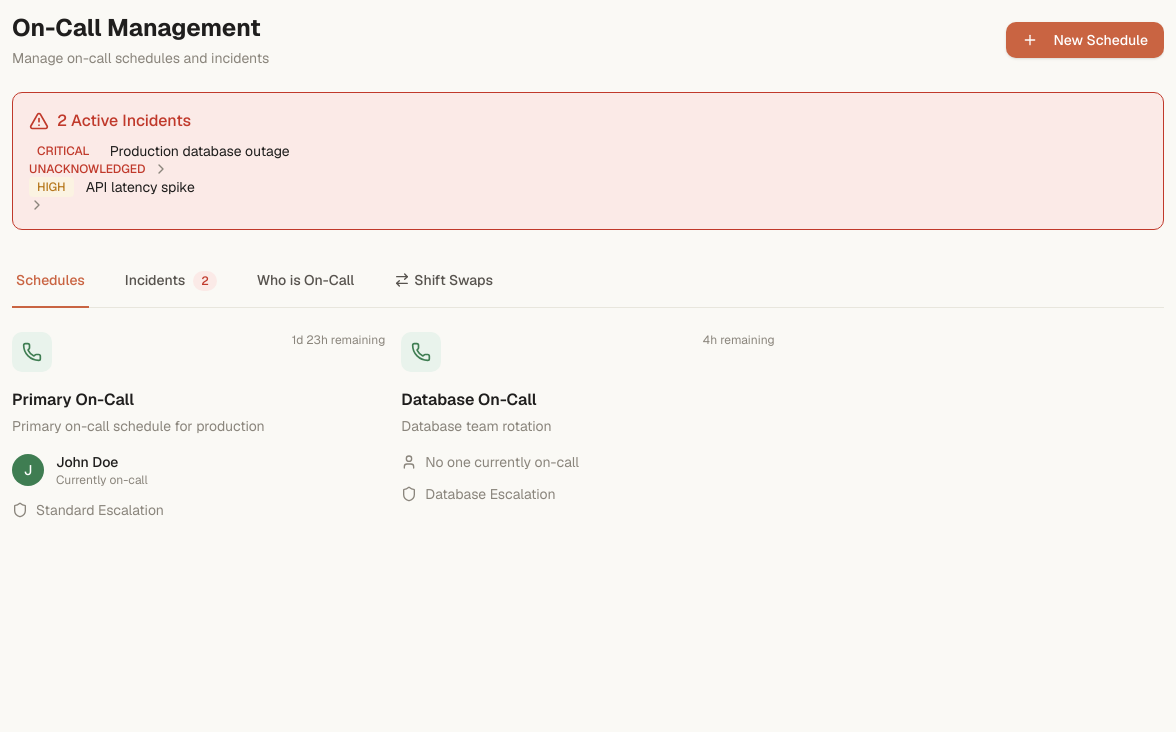
Test case: OnCallPage › Incidents Tab › displays high and critical priority incidents
What coordinates should you click on to do the following:
click the button "Incidents2"
I would click on:
 (171, 281)
Its box is x1=121 y1=254 x2=221 y2=308.
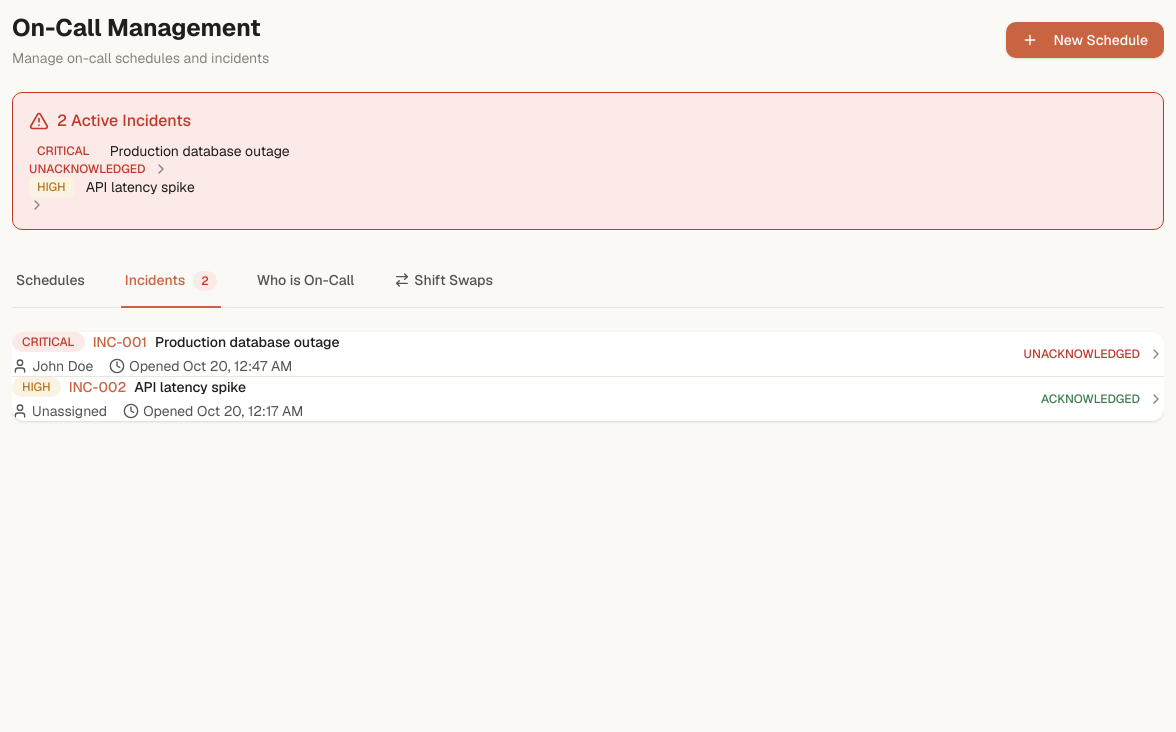
Expected: the text "Production database outage" below "Active Incident" is shown, x1=110 y1=142 x2=290 y2=160
Result: the text "INC-001" is shown at x1=93 y1=332 x2=147 y2=352
Result: the text "INC-002" is shown at x1=69 y1=377 x2=126 y2=397
